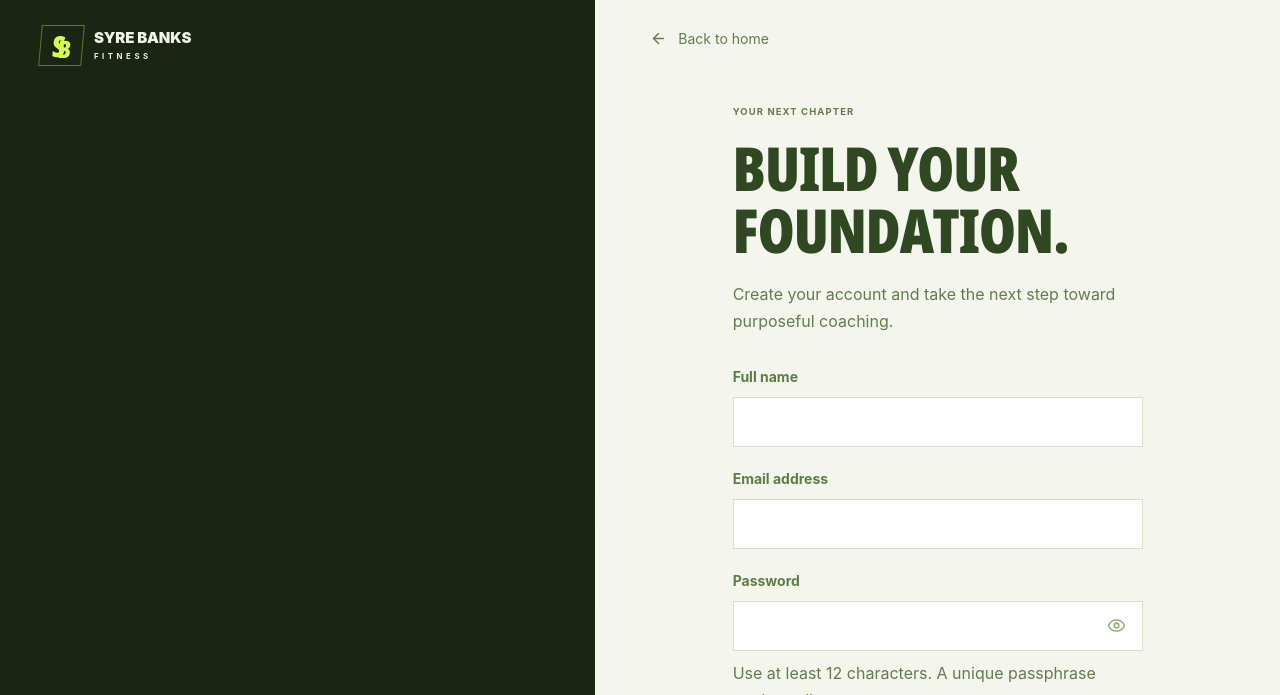
Test: account experience › prevents registration when password confirmation differs
Type "Aline Example" into the field labelled "Full name".
click(938, 422); type("Aline Example")  # box top-left (733, 397), bottom-right (1143, 447)
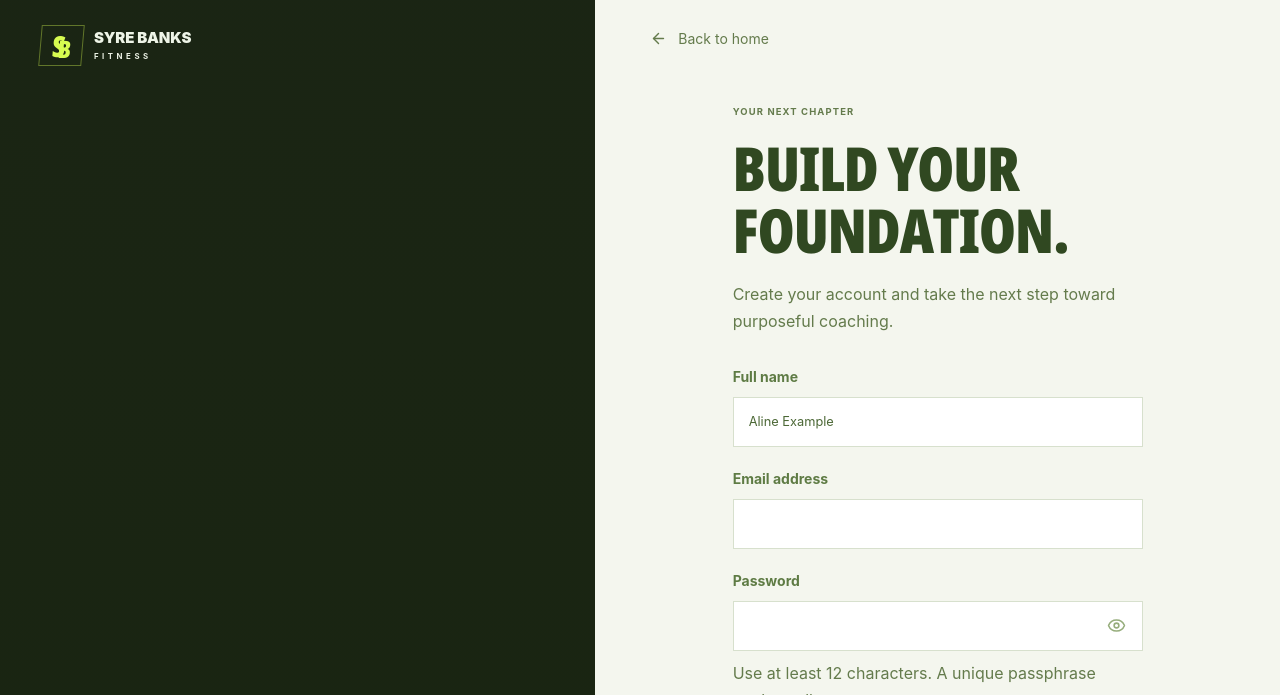
Type "aline@example.com" into the field labelled "Email address".
click(938, 524); type("aline@example.com")  # box top-left (733, 499), bottom-right (1143, 549)
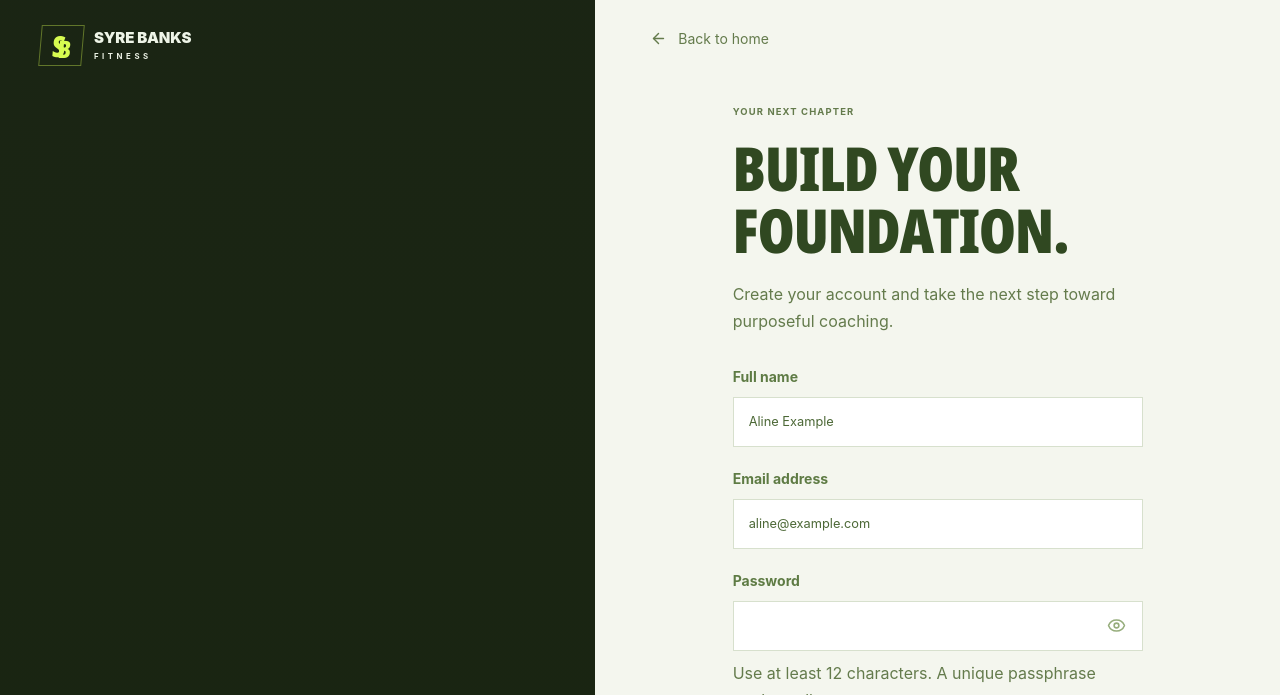
Type "a-secure-passphrase" into the password field labelled "Password".
click(938, 626); type("a-secure-passphrase")  # box top-left (733, 601), bottom-right (1143, 651)
(page scrolled)
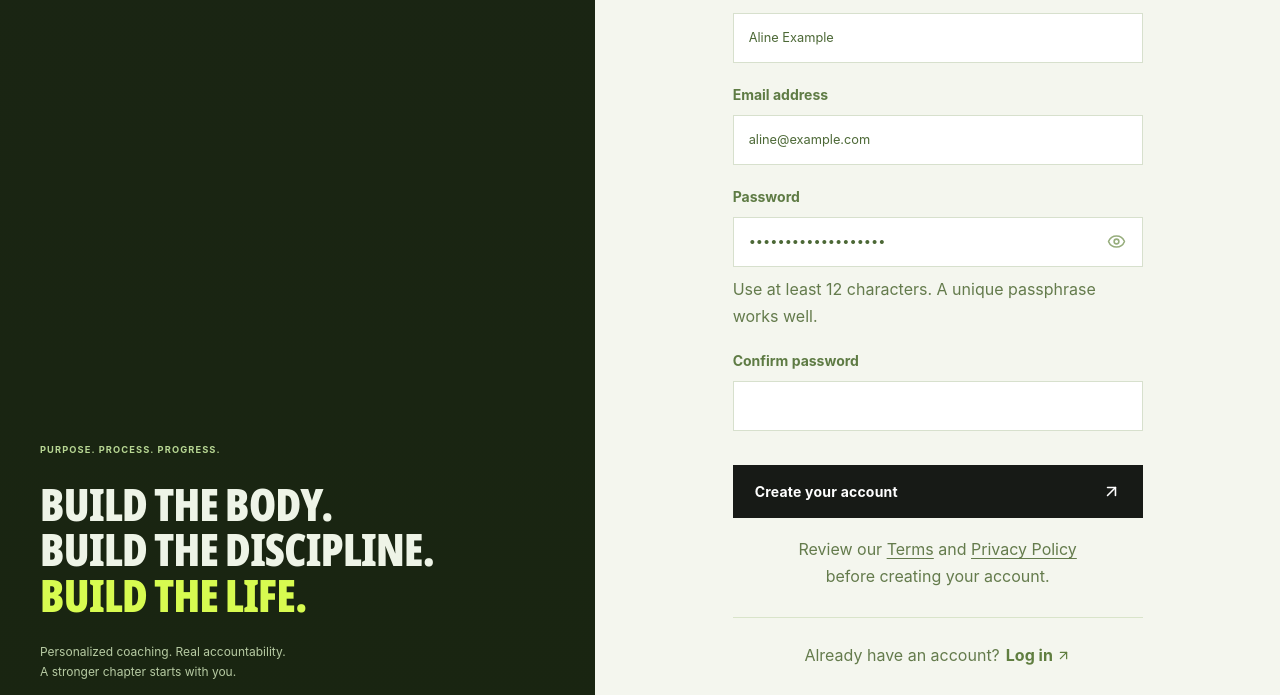
Type "a-different-passphrase" into the password field labelled "Confirm password".
click(938, 406); type("a-different-passphrase")  # box top-left (733, 381), bottom-right (1143, 431)
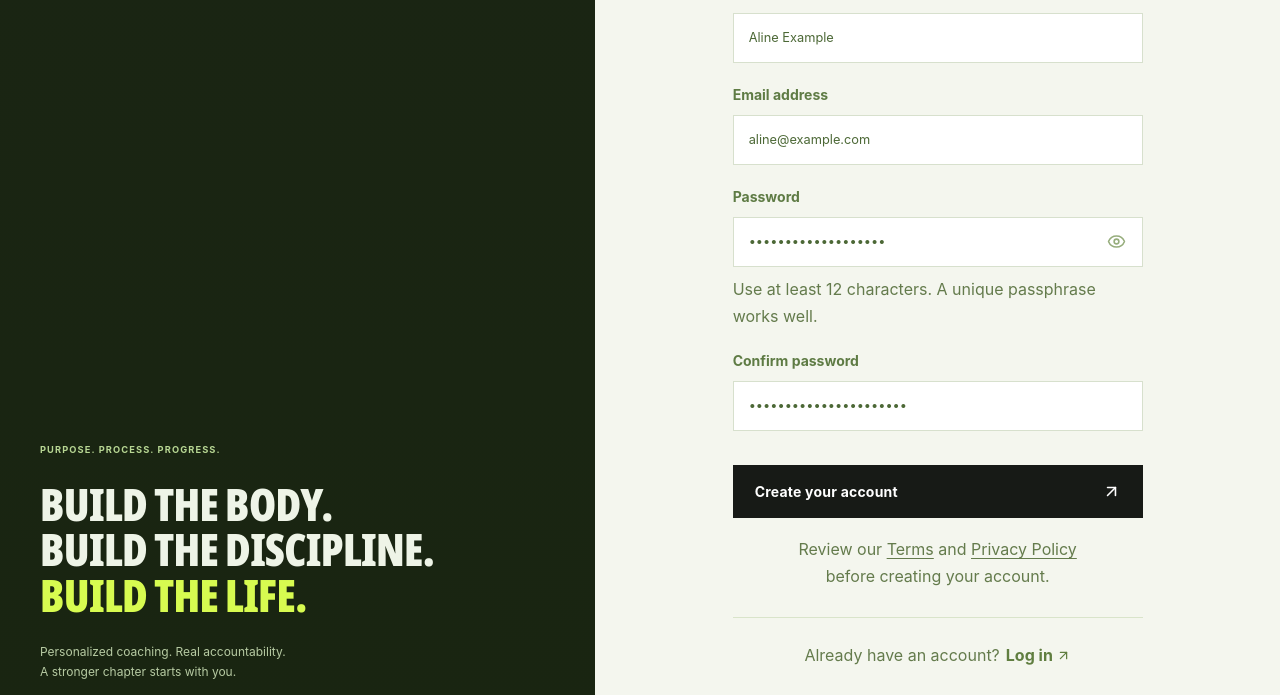
Click the button "Create your account".
click(826, 491)  # box top-left (733, 465), bottom-right (1143, 518)
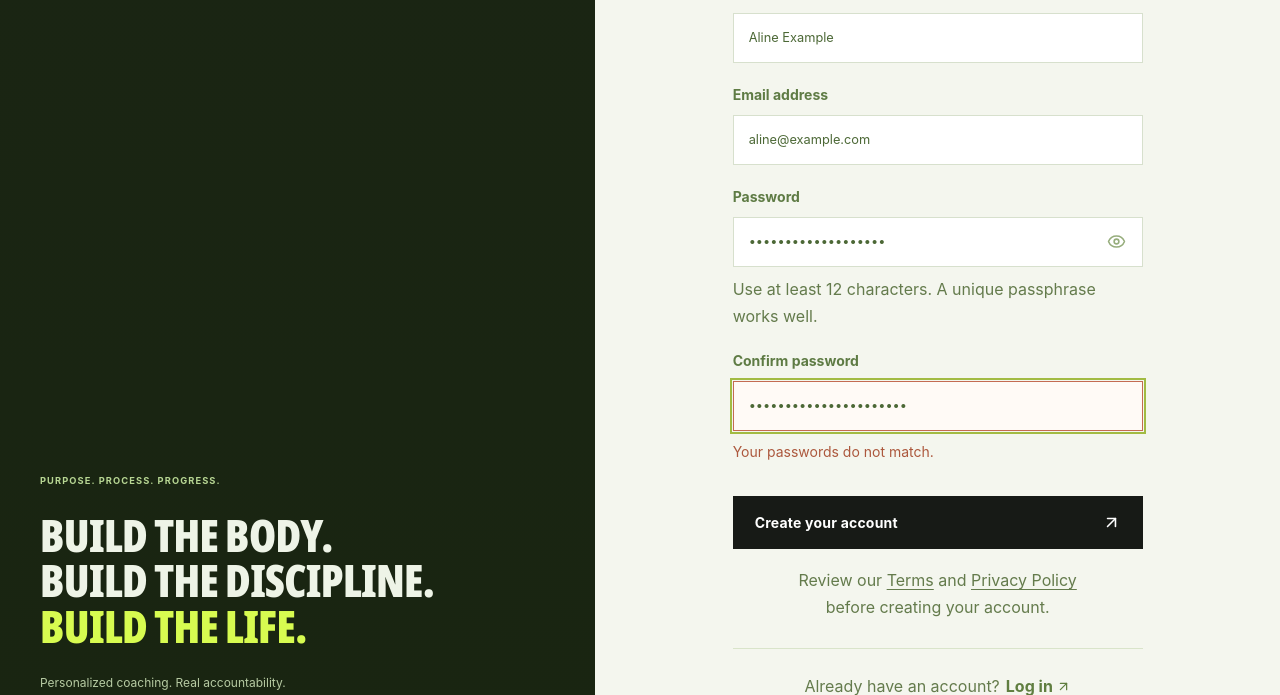
Now the text "Your passwords do not match." is shown, box top-left (733, 443), bottom-right (934, 460)
